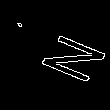N_NW: (14, 26, 96, 84)
